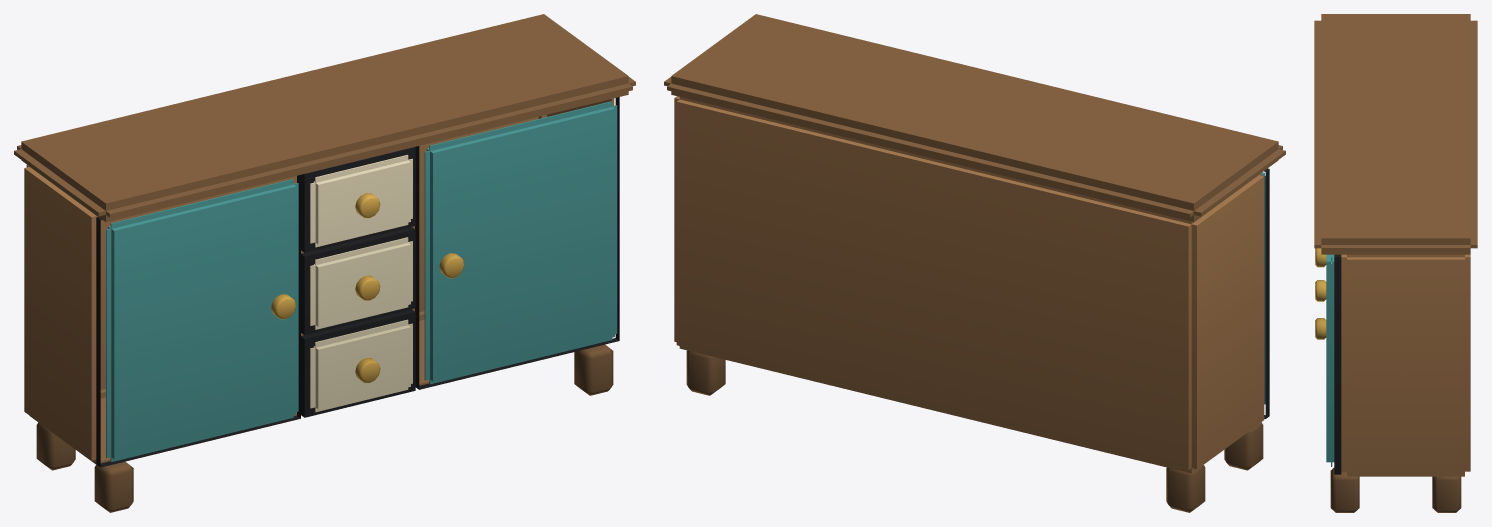
File: Sideboard_01.glb
The picture shows the model from 3 angles, left to right: view 1: azimuth 30°, elevation 25°; view 2: azimuth 150°, elevation 25°; view 3: azimuth 270°, elevation 25°; orthographic projection. The views are drawn at different scales.
Parts seen in each view (by area): view 1: SM_Sideboard_01; view 2: SM_Sideboard_01; view 3: SM_Sideboard_01.
Part boxes in pixels (x1,y1,x2,y2): SM_Sideboard_01: [14, 14, 635, 512]; SM_Sideboard_01: [664, 14, 1285, 512]; SM_Sideboard_01: [1314, 14, 1477, 512].
Size of the model in its own units: 1.5 by 0.85 by 0.45.
Materials: 1 (1 with a texture image).
